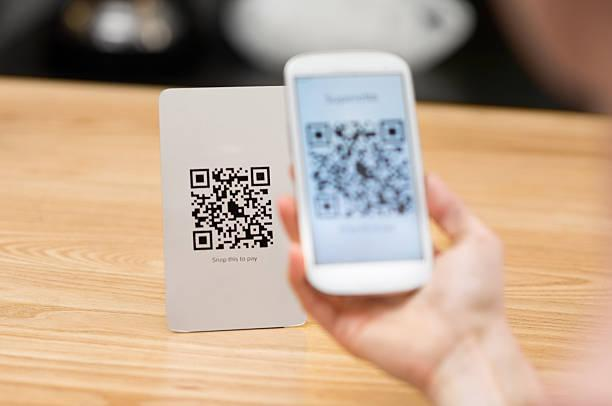Finder pattern: (311, 190, 343, 223), (378, 114, 409, 148), (303, 119, 337, 149), (246, 163, 274, 190), (186, 164, 214, 191), (191, 228, 215, 253)
